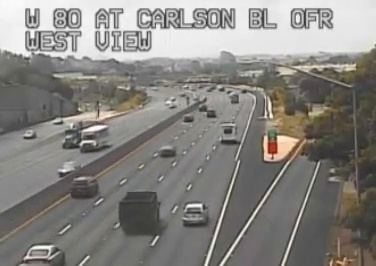bus: (219, 124, 236, 143)
car: (24, 244, 65, 266), (70, 177, 98, 198), (183, 203, 207, 226)
small-truck: (117, 191, 158, 232)
